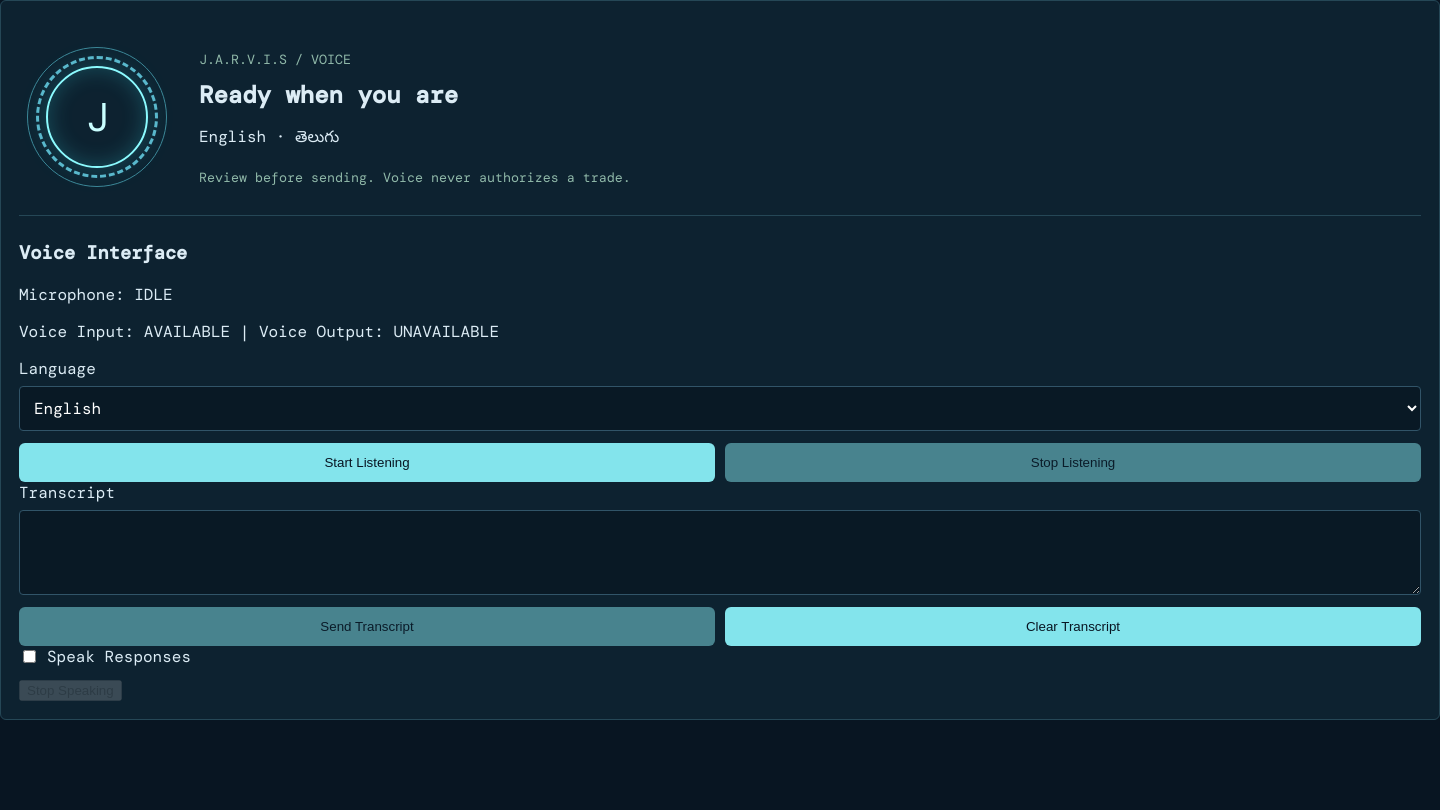
Scenario: VoicePanel › handles unsupported TTS without failing chat
The width and height of the screenshot is (1440, 810).
Click the checkbox labelled "Speak Responses" at (30, 656), box [23,650,36,663]
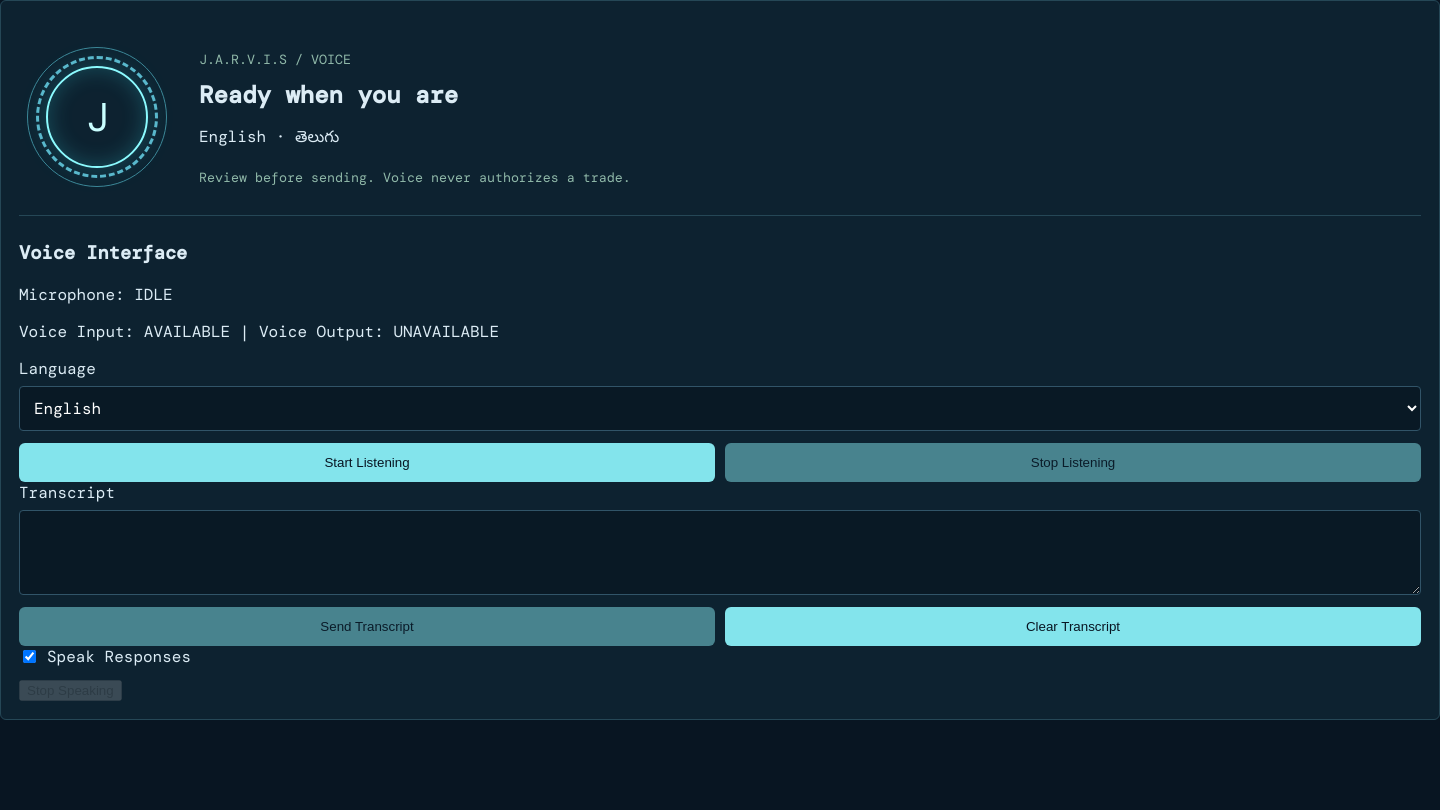
Click the button "Start Listening" at (367, 462), box [19,443,715,482]
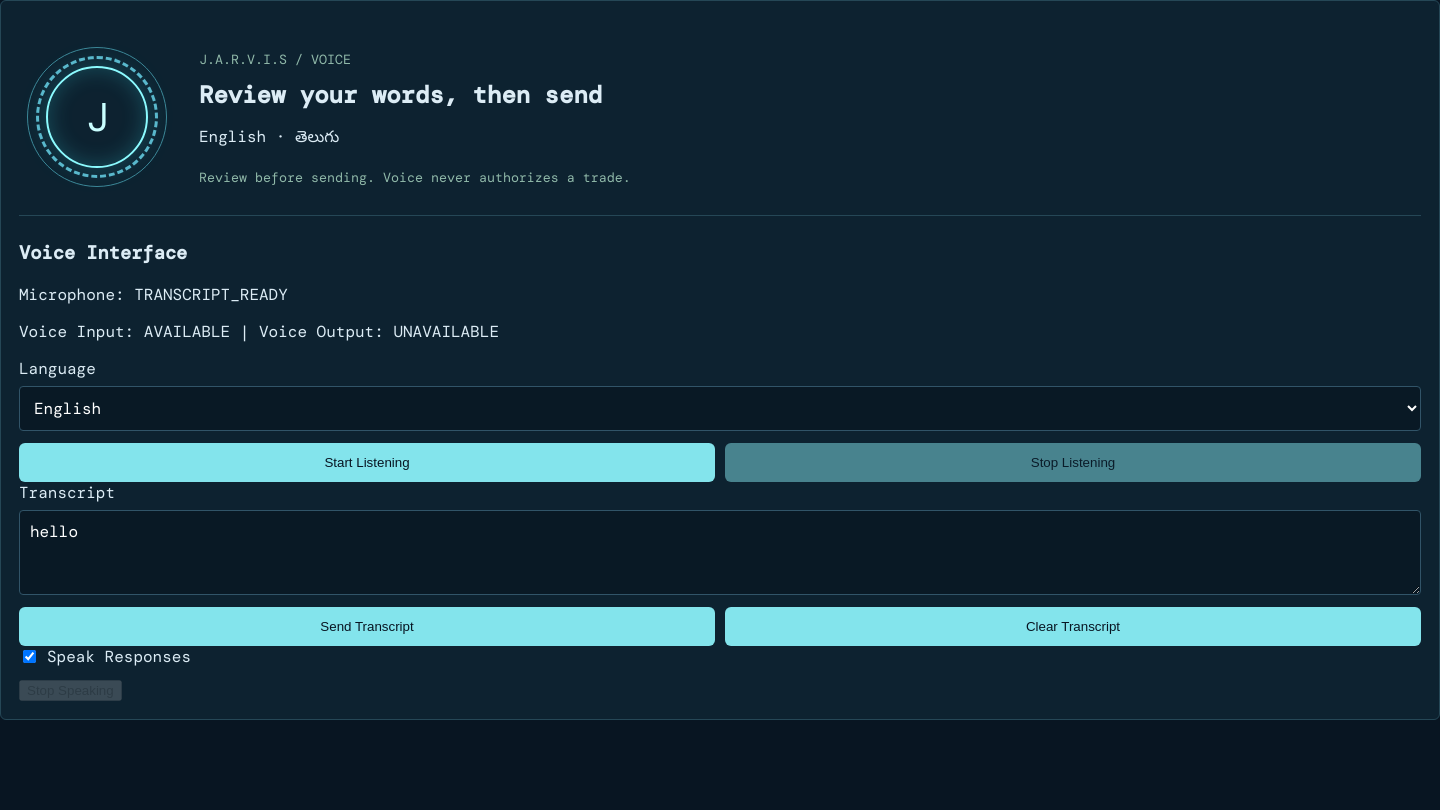
Result: the text box showing "hello" is shown at [19,510,1421,595]
Click the button "Send Transcript" at (367, 626), box [19,607,715,646]
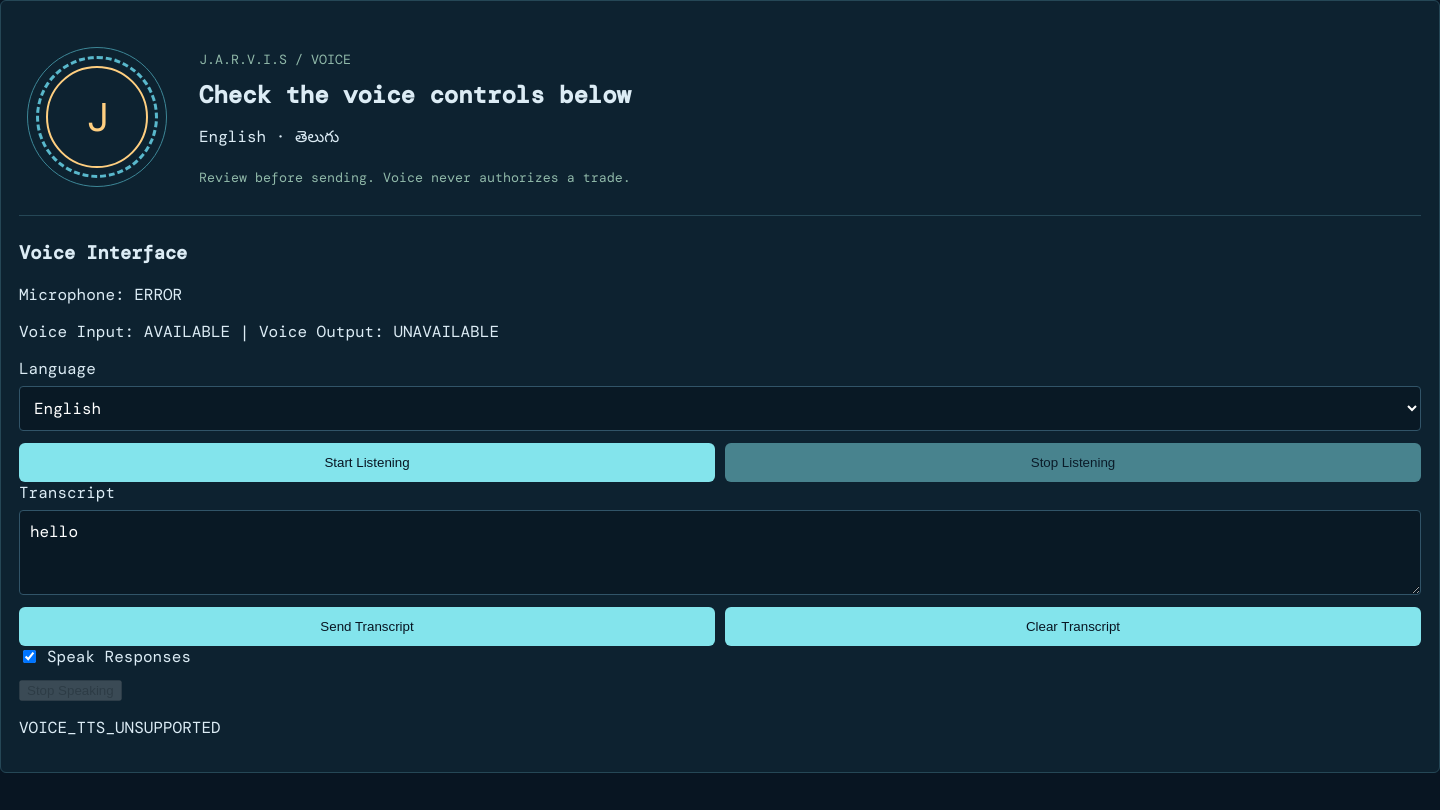
Result: the message "VOICE_TTS_UNSUPPORTED" is shown at [19,717,221,738]
